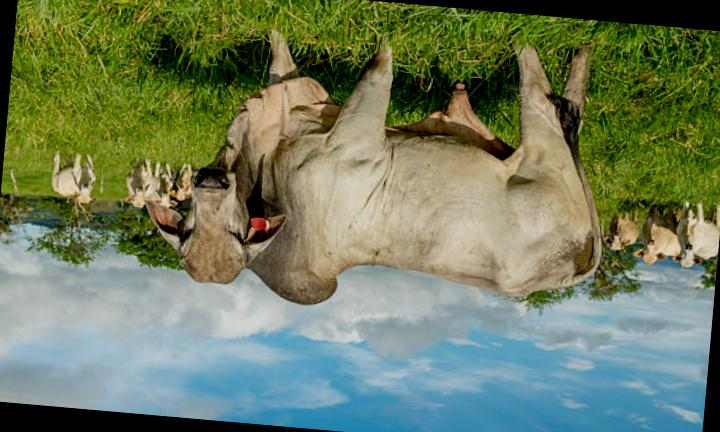Brahman: (148, 33, 600, 304)
